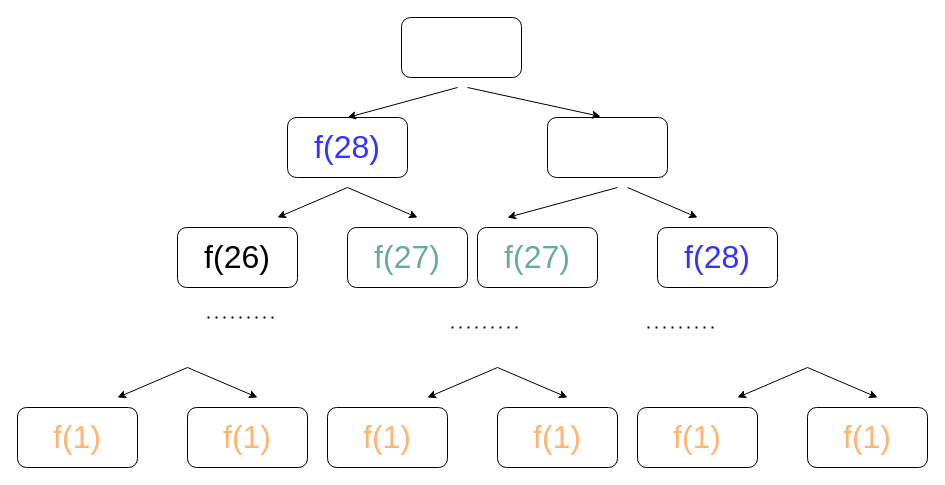
Image size: 945x485. Some labels were removed from this diagram. The centre of each missing label's shape, as x and y in pixels:
f(29): (x=607, y=147)
f(30): (x=461, y=47)
